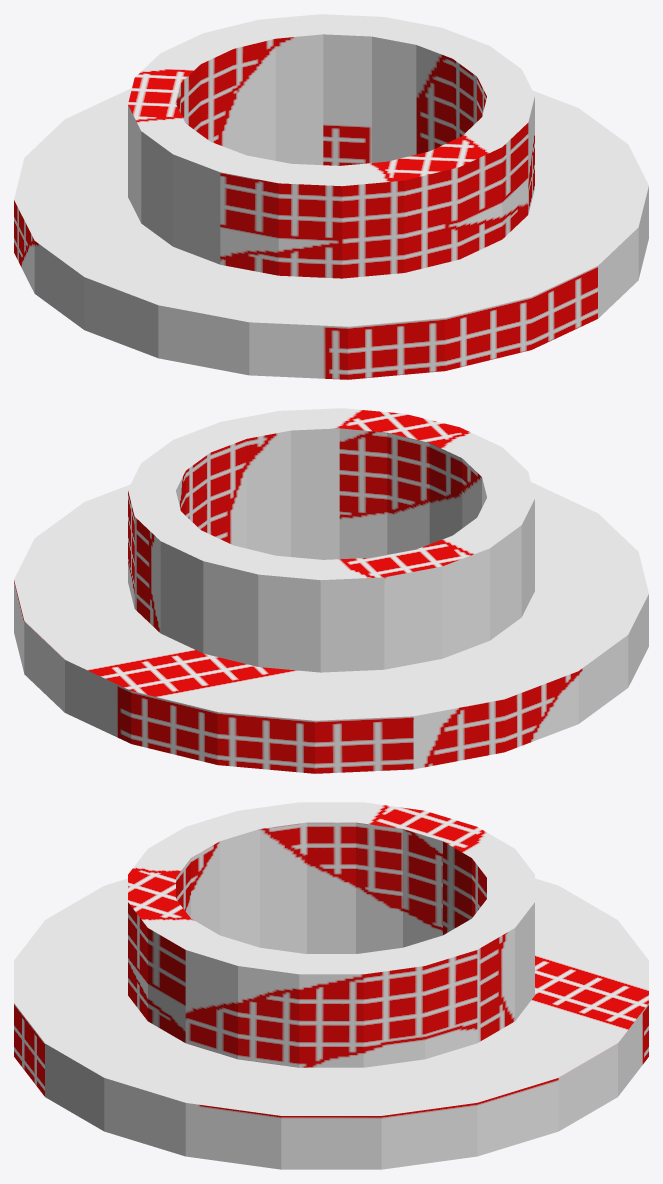
The model's file is hanoi_red_disk.dae.
3 views of the same model, one above another, from view 1: azimuth 30°, elevation 25°; view 2: azimuth 150°, elevation 25°; view 3: azimuth 270°, elevation 25° (orthographic).
Visible parts, largest first — view 1: red_disk; view 2: red_disk; view 3: red_disk.
Part boxes in pixels (x1,y1,x2,y2): red_disk: (14, 14, 648, 379); red_disk: (14, 408, 648, 773); red_disk: (14, 802, 648, 1169).
Bounding box in the file's own units: 0.3 × 0.3 × 0.1.
